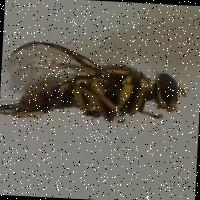Oriental-fruit-fly: (0, 26, 198, 148)
